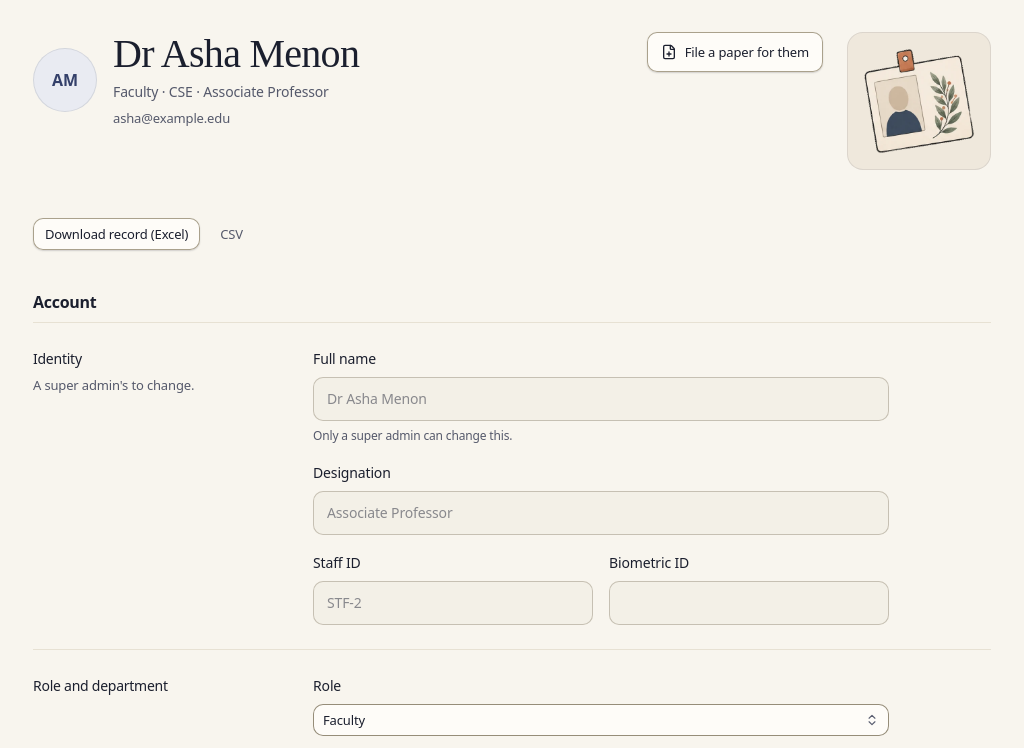
Test case: AccountEditor — who may appoint what › offers the office no role that decides whether money moves
Check: the heading "Role and department" is shown, box [33, 676, 168, 695]
Click the button named "Role": x=344, y=720 [313, 704, 889, 736]
(page scrolled)
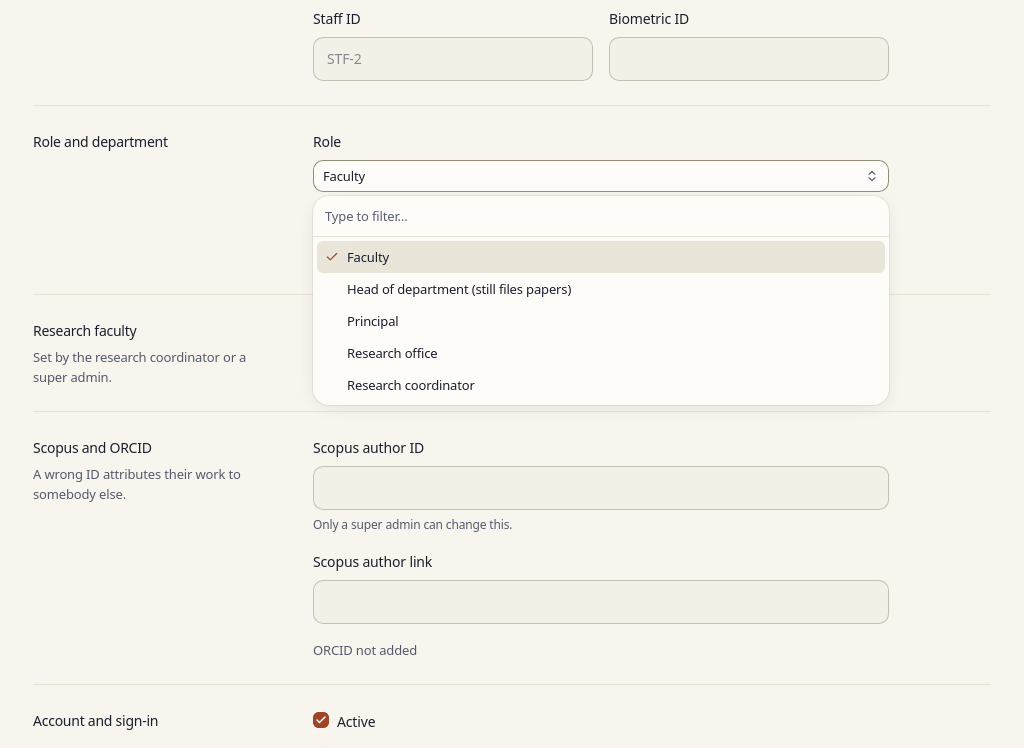
Check: the option "Research coordinator" is shown, box [347, 376, 475, 394]
